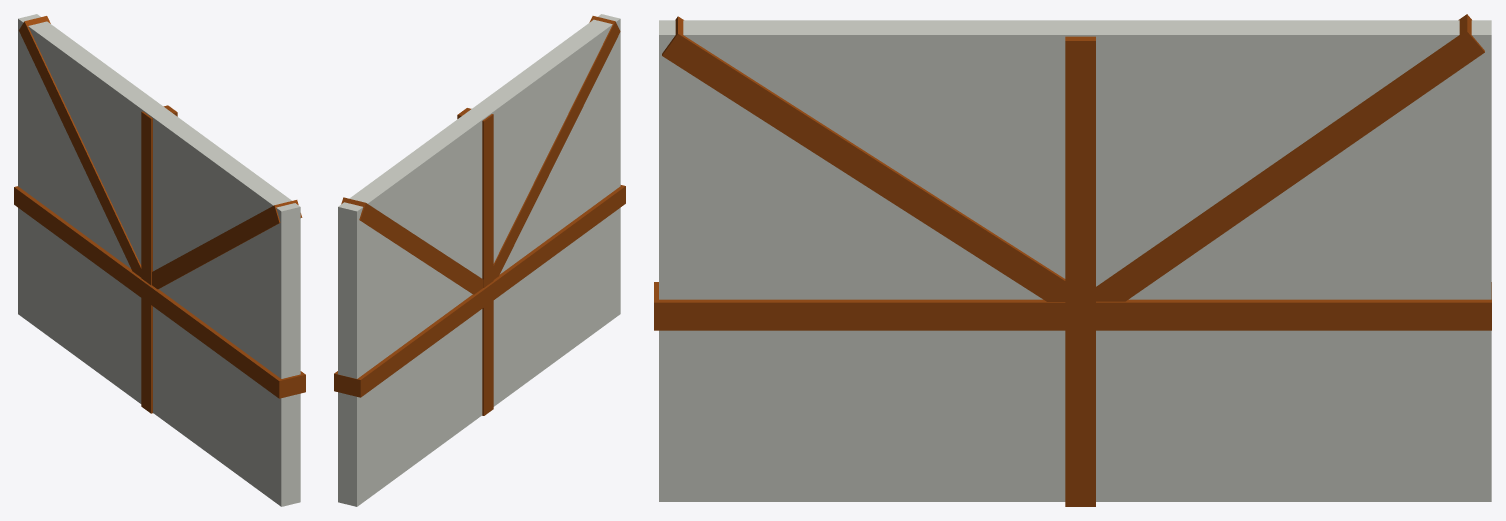
The model's file is NormalWall4.fbx.
3 renders of one model, left to right at view 1: azimuth 30°, elevation 25°; view 2: azimuth 150°, elevation 25°; view 3: azimuth 270°, elevation 25°, orthographic. The views are drawn at different scales.
Visible parts, largest first — view 1: NormalWall4; view 2: NormalWall4; view 3: NormalWall4.
Boxes of the visible parts, x1,y1,x2,y2 form: NormalWall4: (14,14,305,506); NormalWall4: (334,14,625,506); NormalWall4: (654,14,1491,506).
Bounding box in the file's own units: 113 × 1124 × 1806.
